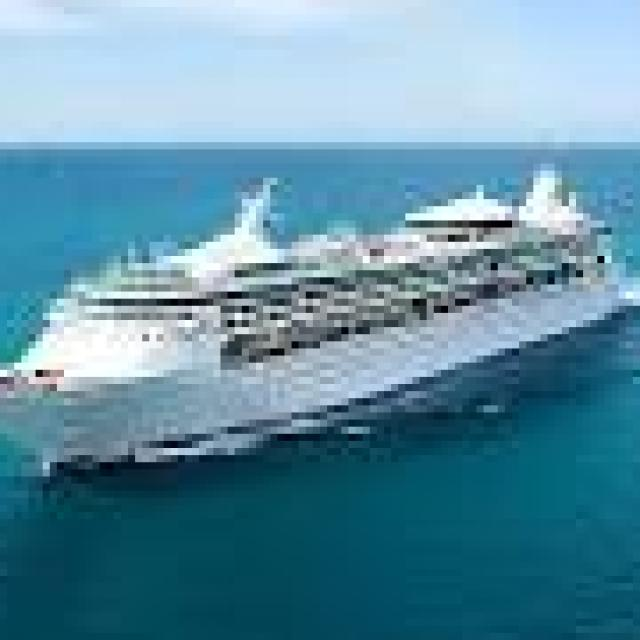passenger ship: (0, 107, 576, 455)
